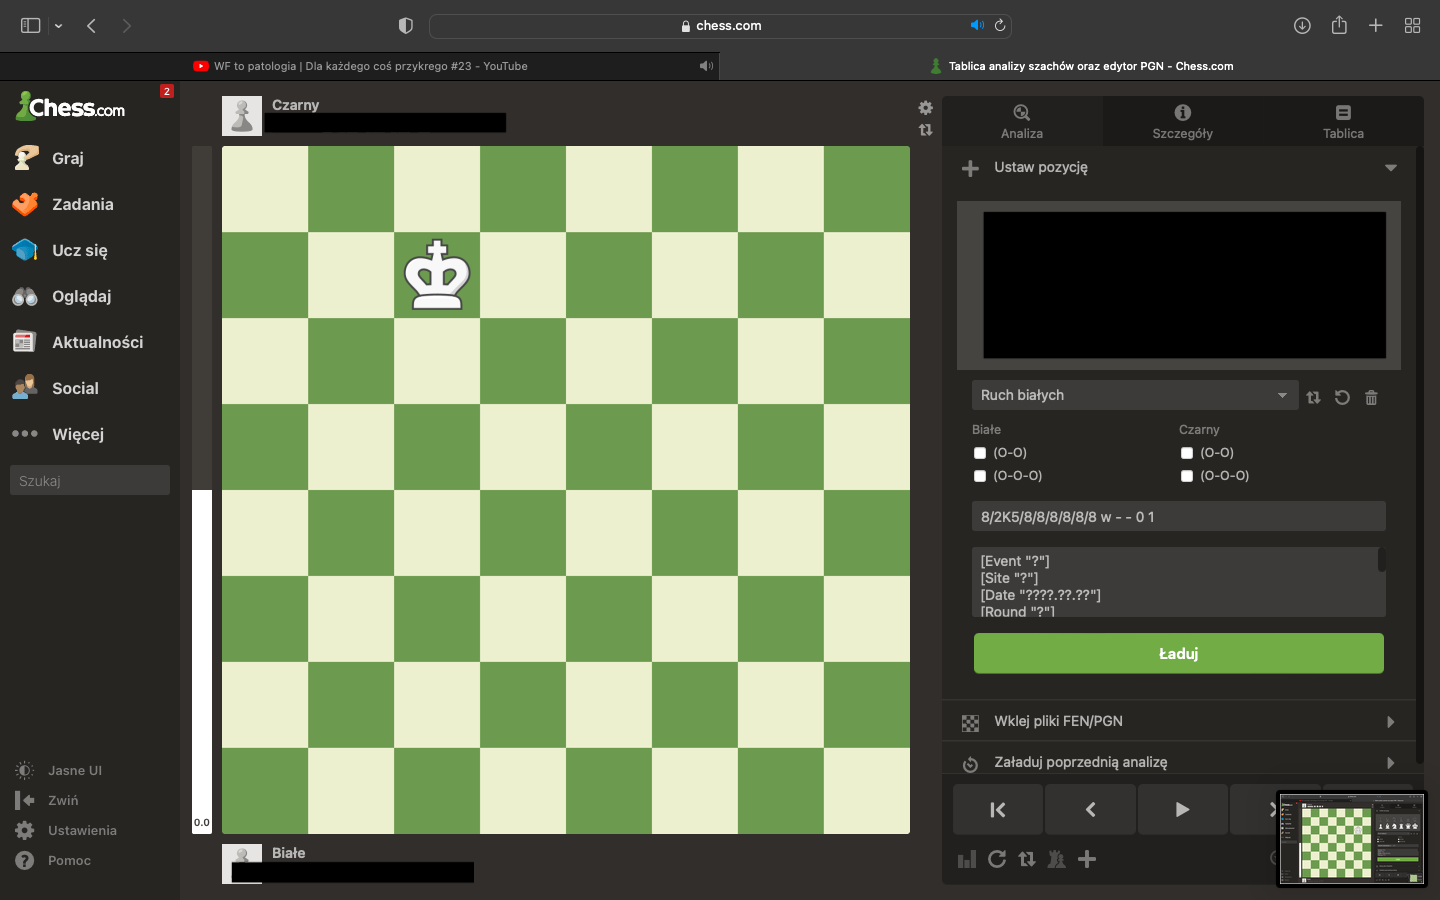white_king: (403, 238, 472, 312)
